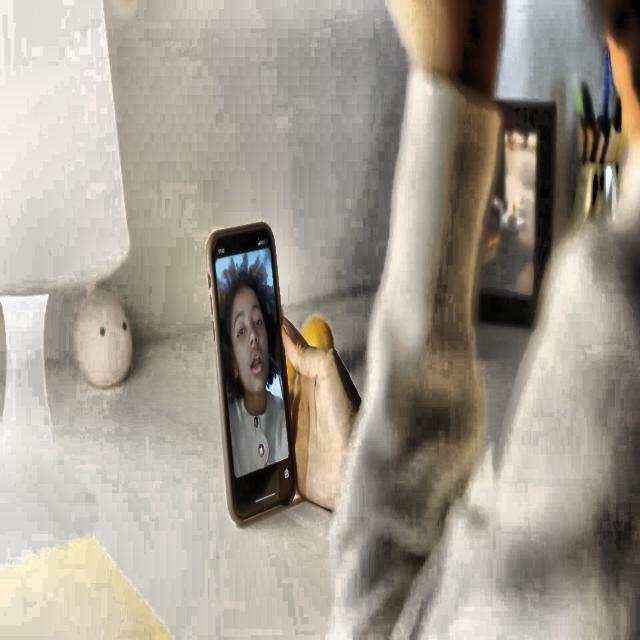Phone: (206, 218, 300, 530)
